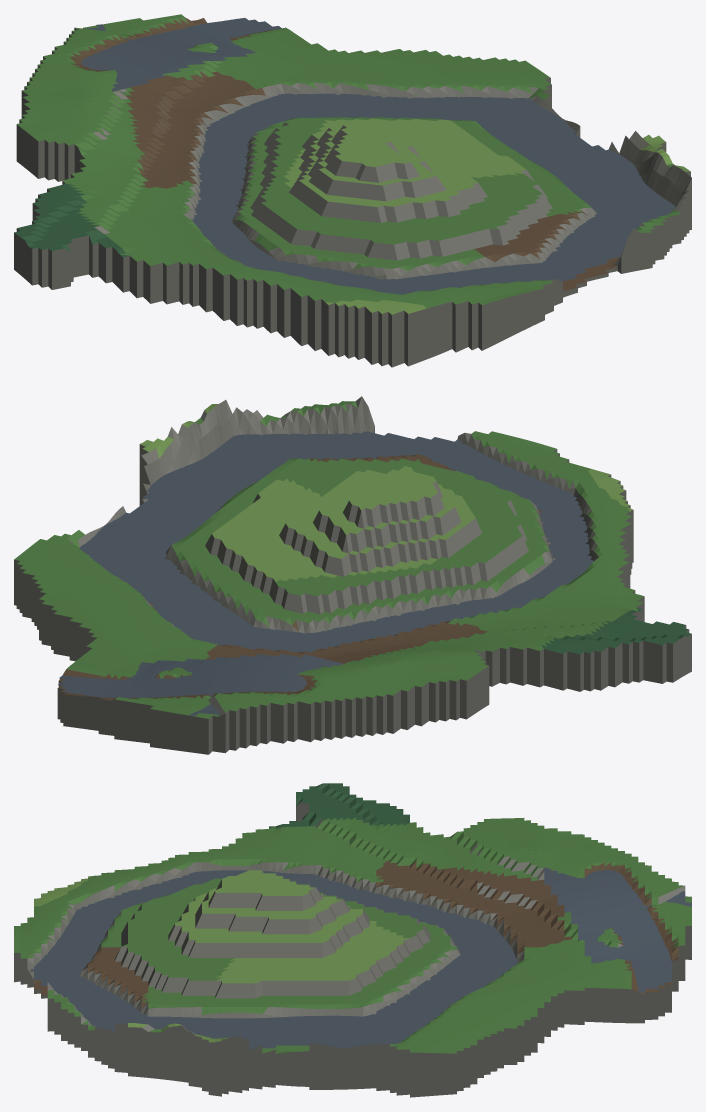
Rendered from medieval-japan-terrain-1e0bee.glb.
3 renders of one model, top to bottom at view 1: azimuth 30°, elevation 25°; view 2: azimuth 150°, elevation 25°; view 3: azimuth 270°, elevation 25°, orthographic. The views are drawn at different scales.
Visible parts, largest first — view 1: castle-ground, water; view 2: castle-ground, water; view 3: castle-ground, water.
Part boxes in pixels (<box>): castle-ground: <box>14,14,691,367</box>; water: <box>81,18,675,294</box>; castle-ground: <box>14,396,691,754</box>; water: <box>58,431,593,715</box>; castle-ground: <box>14,783,691,1097</box>; water: <box>29,867,691,1050</box>.
Bounding box in the file's own units: 92 × 16.5 × 101.
